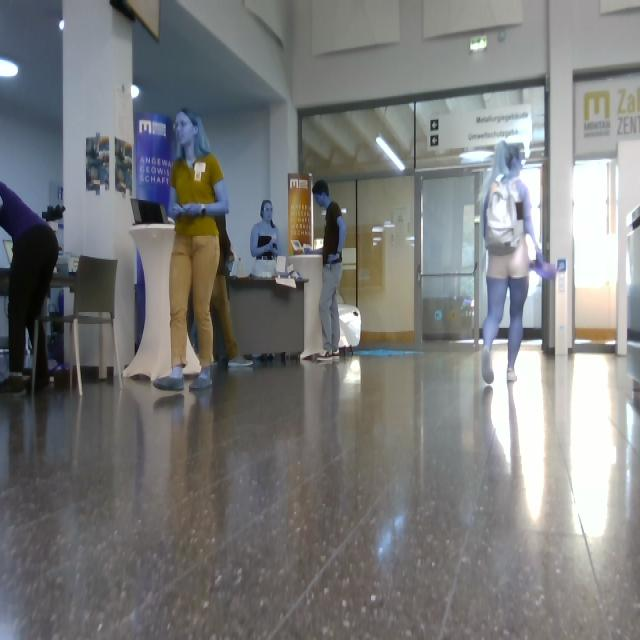chair: (33, 257, 124, 403)
desk: (228, 278, 304, 361)
door: (303, 82, 544, 344), (523, 276, 542, 342), (497, 294, 509, 340), (315, 205, 325, 244)
light bulb: (377, 136, 405, 172), (1, 58, 18, 77), (132, 85, 140, 100), (59, 20, 63, 32)
person: (155, 109, 229, 390), (482, 142, 557, 384), (1, 182, 58, 400), (212, 216, 253, 366), (251, 201, 279, 277)
pillar: (62, 1, 136, 373), (548, 1, 575, 356), (80, 325, 116, 370), (66, 290, 74, 314)
staircase: (628, 206, 640, 400)
table: (124, 225, 175, 381), (290, 256, 323, 360), (183, 338, 199, 373)
tiled floor: (1, 346, 640, 640)
